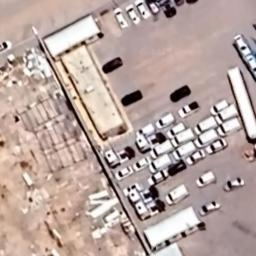SUV: (206, 96, 231, 114)
sedan: (138, 205, 202, 249), (110, 6, 131, 34), (221, 178, 252, 195), (133, 0, 156, 19), (195, 202, 226, 216), (175, 101, 202, 117), (134, 120, 158, 136), (186, 150, 208, 167), (126, 2, 142, 24), (206, 138, 228, 154), (112, 165, 137, 179), (146, 171, 168, 185), (142, 0, 162, 15), (154, 111, 174, 126), (130, 155, 150, 167), (0, 39, 14, 56)
truck: (225, 64, 256, 142), (231, 32, 256, 78)
unknown: (98, 56, 128, 75), (118, 88, 144, 108), (166, 82, 192, 102), (194, 171, 216, 189), (160, 6, 179, 22)
van: (165, 182, 193, 208), (168, 142, 202, 162), (194, 114, 220, 138), (192, 129, 222, 147), (215, 118, 243, 136), (169, 129, 196, 146), (212, 105, 242, 120), (150, 154, 174, 172), (152, 140, 174, 156)
